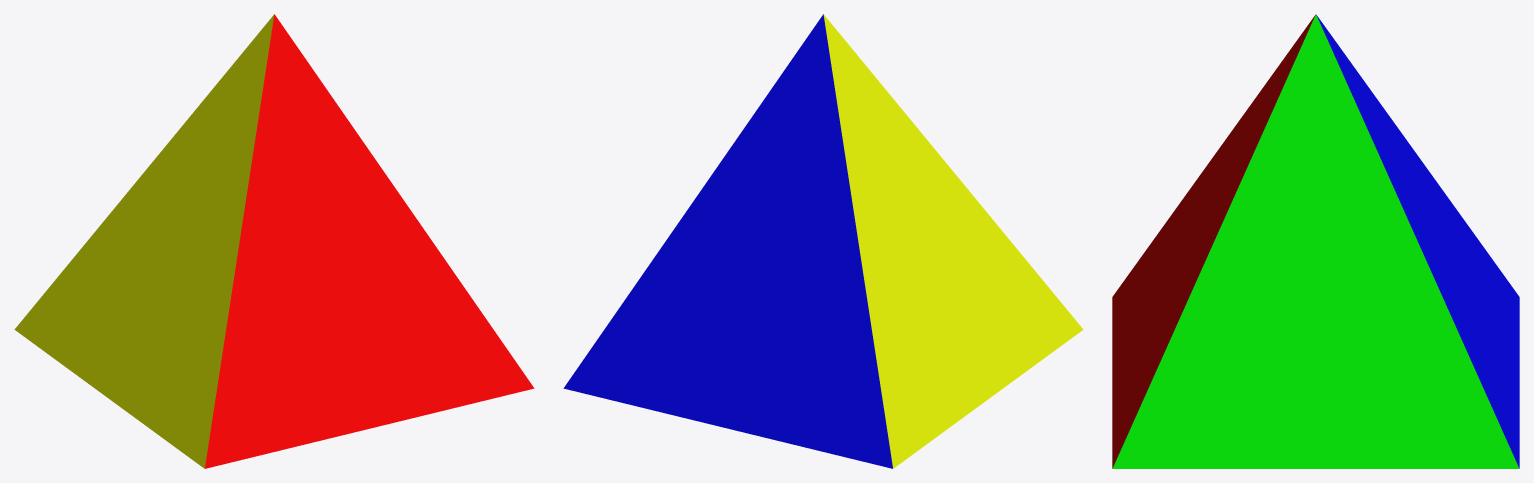
File: piramide.glb
3 views of the same model, side by side, from view 1: azimuth 30°, elevation 25°; view 2: azimuth 150°, elevation 25°; view 3: azimuth 270°, elevation 25° (orthographic). The views are drawn at different scales.
Parts seen in each view (by area): view 1: Pyramid002; view 2: Pyramid002; view 3: Pyramid002.
Boxes of the visible parts, left/top/right/bottom form: Pyramid002: left=14, top=14, right=534, bottom=468; Pyramid002: left=563, top=14, right=1083, bottom=468; Pyramid002: left=1112, top=14, right=1519, bottom=468.
Size of the model in its own units: 0.635 by 0.635 by 0.635.
